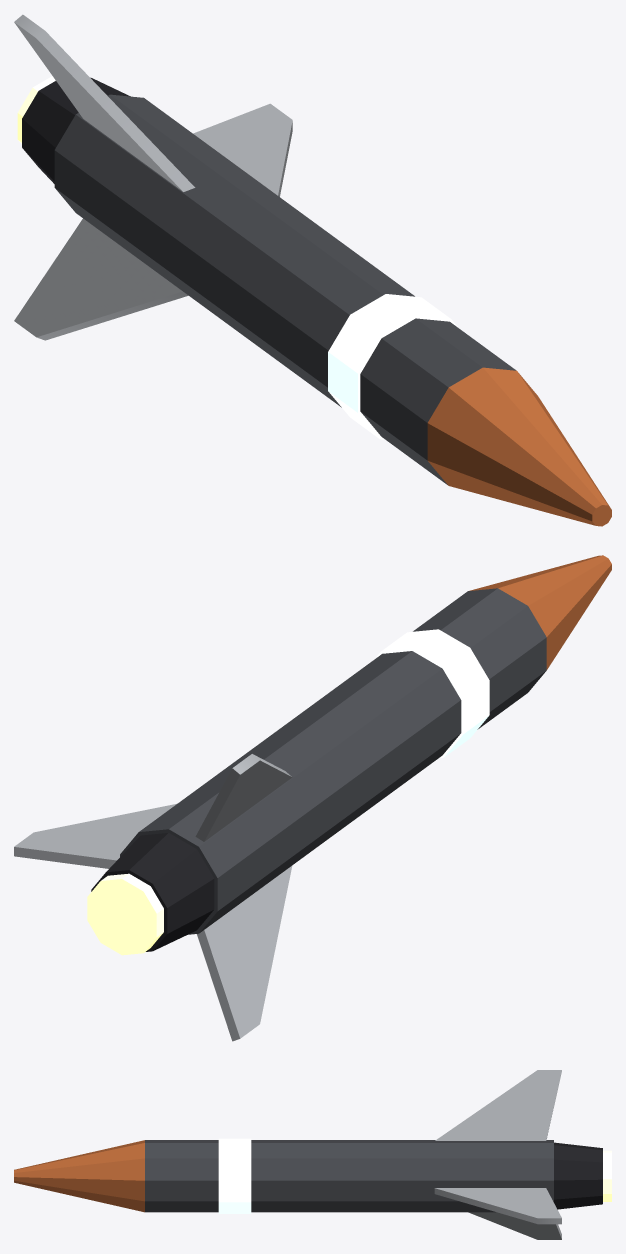
The model's file is mini_missile.glb.
3 renders of one model, top to bottom at view 1: azimuth 30°, elevation 25°; view 2: azimuth 150°, elevation 25°; view 3: azimuth 270°, elevation 25°, orthographic. The views are drawn at different scales.
Parts seen in each view (by area): view 1: Body; view 2: Body, Exhaust; view 3: Body, Exhaust.
Part boxes in pixels (x1,y1,x2,y2): Body: (14, 14, 611, 526); Body: (14, 555, 611, 1041); Exhaust: (87, 873, 163, 955); Body: (14, 1070, 602, 1239); Exhaust: (603, 1150, 611, 1201).
Bounding box in the file's own units: 0.1985 × 0.2292 × 0.731.
